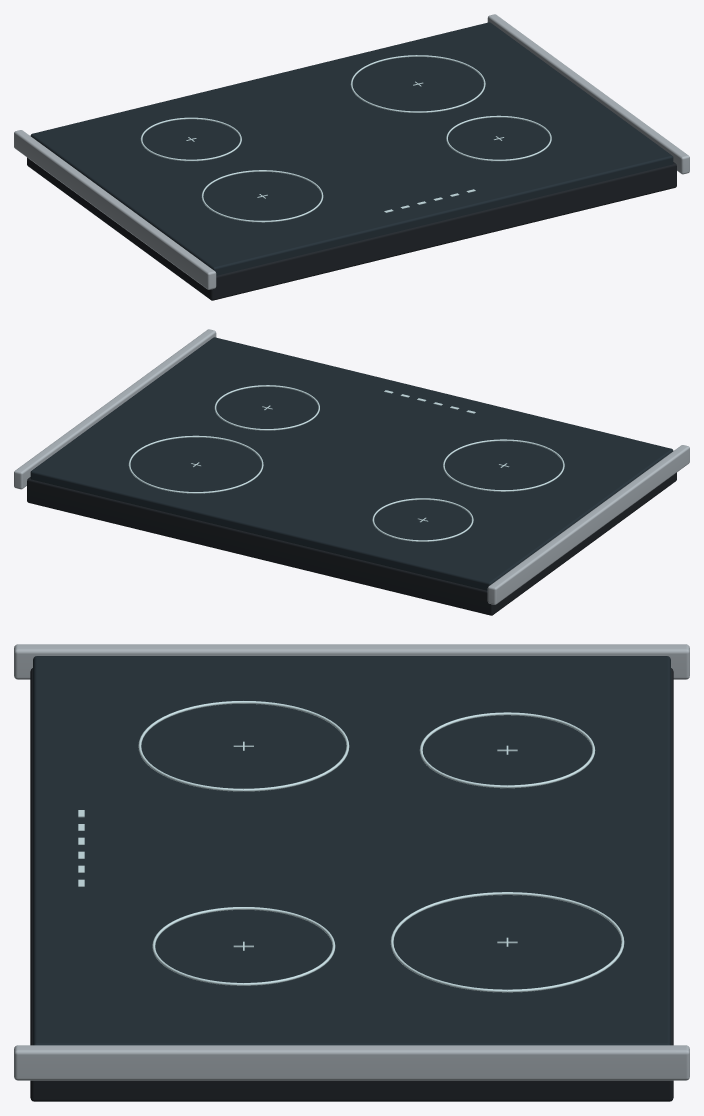
File: luxury-induction-cooktop-30.glb
The picture shows the model from 3 angles, top to bottom: view 1: azimuth 30°, elevation 25°; view 2: azimuth 150°, elevation 25°; view 3: azimuth 270°, elevation 25°; orthographic projection. The views are drawn at different scales.
Visible parts, largest first — view 1: luxury-induction-cooktop-30; view 2: luxury-induction-cooktop-30; view 3: luxury-induction-cooktop-30.
Boxes of the visible parts, x1=… form: luxury-induction-cooktop-30: x1=14, y1=14, x2=689, y2=300; luxury-induction-cooktop-30: x1=14, y1=329, x2=689, y2=615; luxury-induction-cooktop-30: x1=14, y1=644, x2=689, y2=1101.
Bounding box in the file's own units: 0.762 × 0.051 × 0.533.
